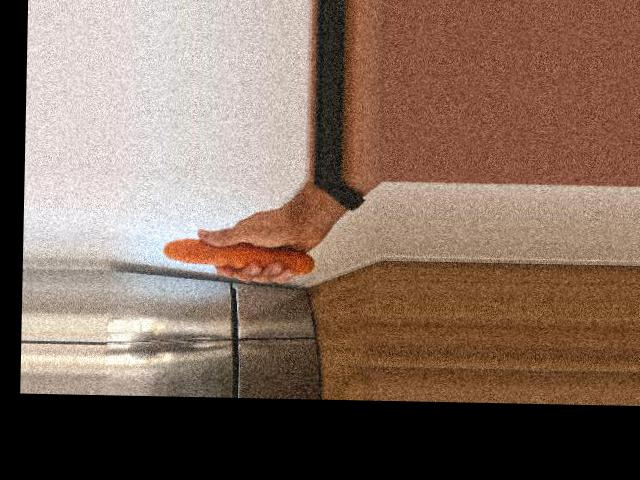carrot: (164, 238, 317, 273)
